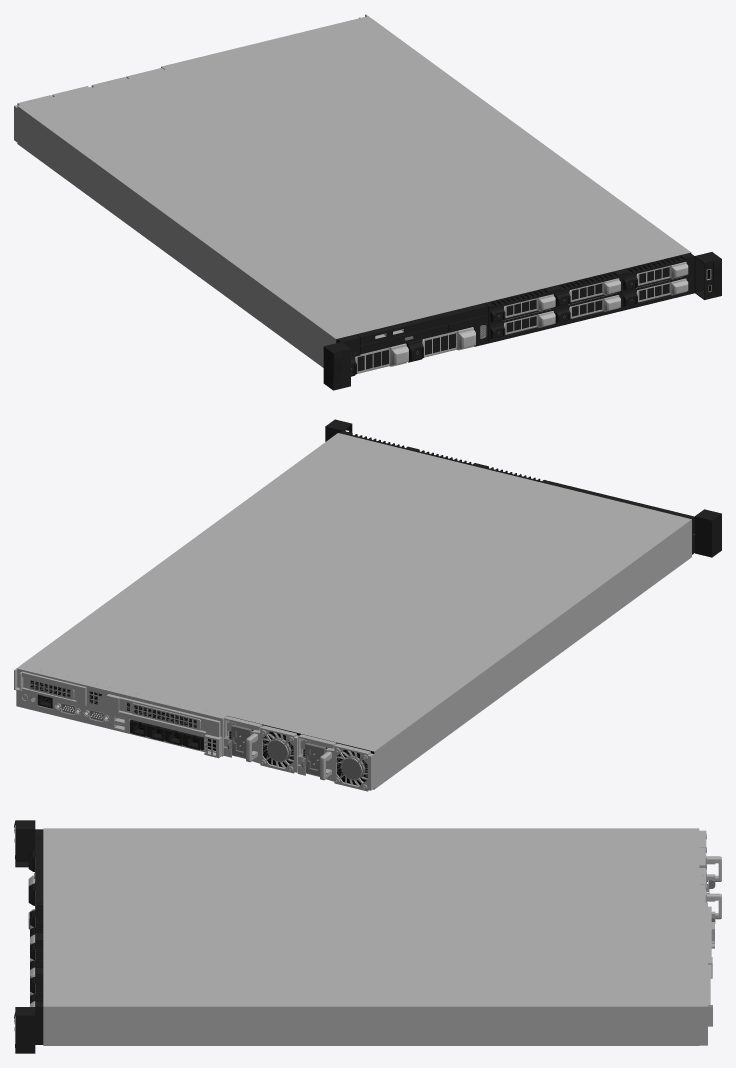
The model's file is Dell_R640.fbx.
3 renders of one model, top to bottom at view 1: azimuth 30°, elevation 25°; view 2: azimuth 150°, elevation 25°; view 3: azimuth 270°, elevation 25°, orthographic. The views are drawn at different scales.
Visible parts, largest first — view 1: Dell_R640; view 2: Dell_R640; view 3: Dell_R640.
Boxes of the visible parts, x1,y1,x2,y2 form: Dell_R640: [14, 14, 721, 390]; Dell_R640: [14, 419, 721, 791]; Dell_R640: [14, 820, 721, 1053].
Size of the model in its own units: 474 by 45.74 by 728.
6 materials, 1 textured.
